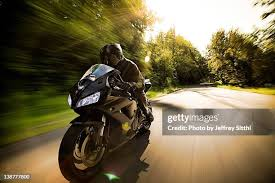motorcycle: (58, 63, 154, 182)
